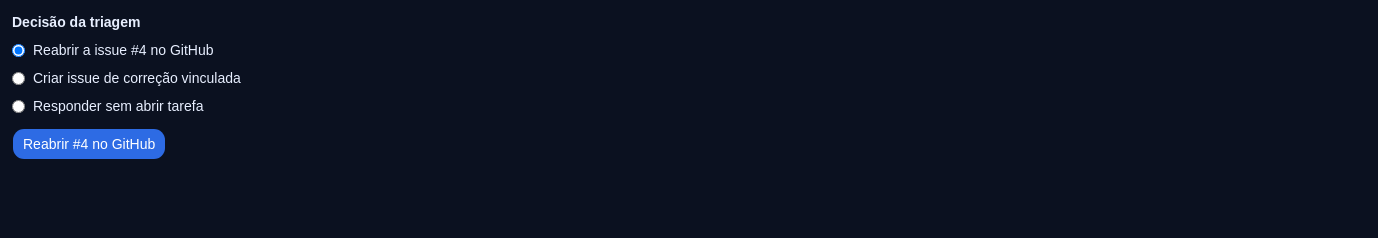
it: FormularioDeTriagem › erro da action aparece em role="alert"
Click the button "Reabrir #4 no GitHub": (89, 144) top-left (12, 128), bottom-right (166, 160)
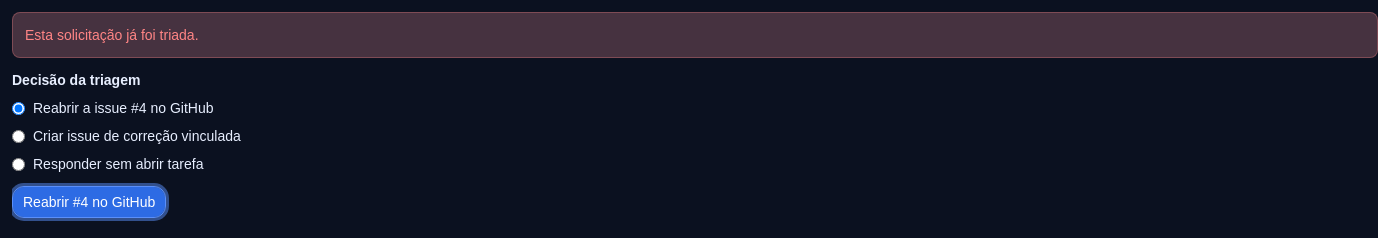
Expected: the message reads "Esta solicitação já foi triada.", top-left (25, 27), bottom-right (198, 43)
